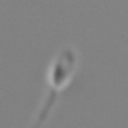normal: (30, 85, 58, 128)
